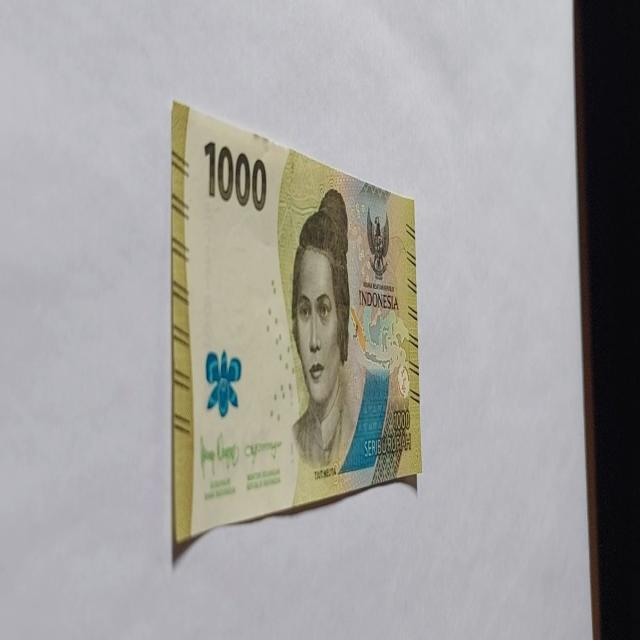seribu rupiah kertas: (170, 99, 422, 550)
